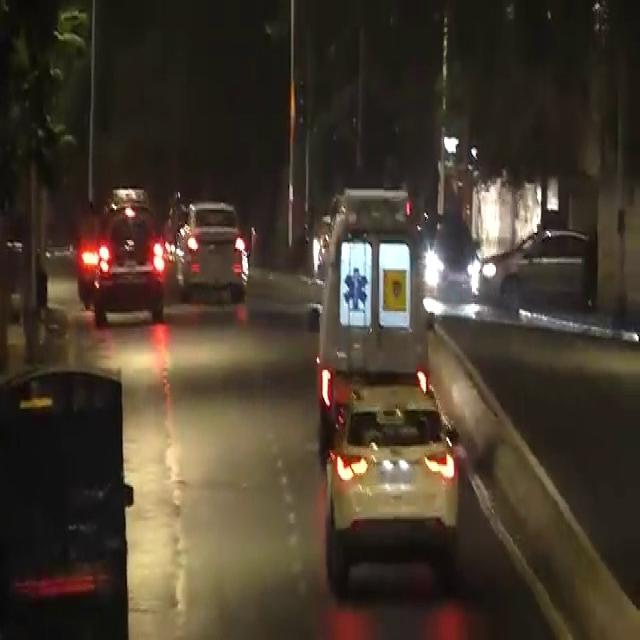ambulance: (286, 202, 423, 381)
